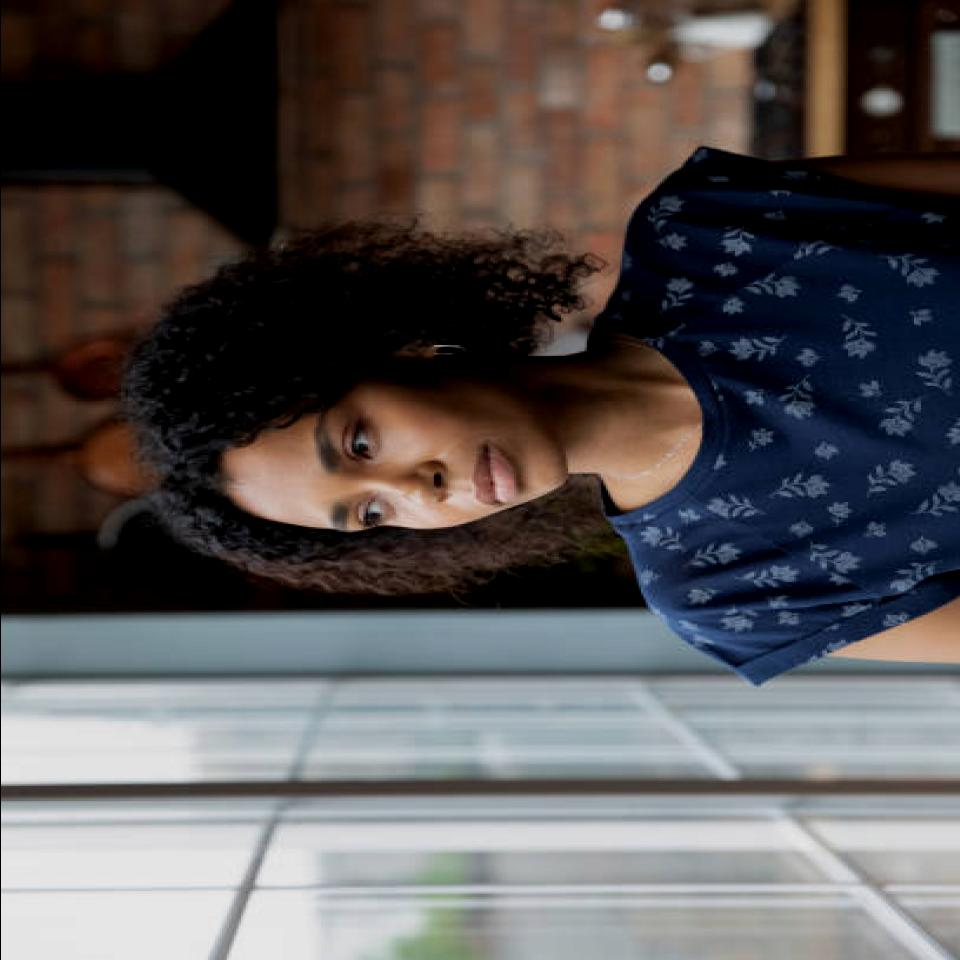Sadness: (240, 382, 560, 534)
